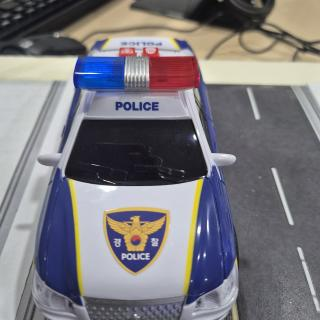Police_car: (32, 36, 239, 320)
